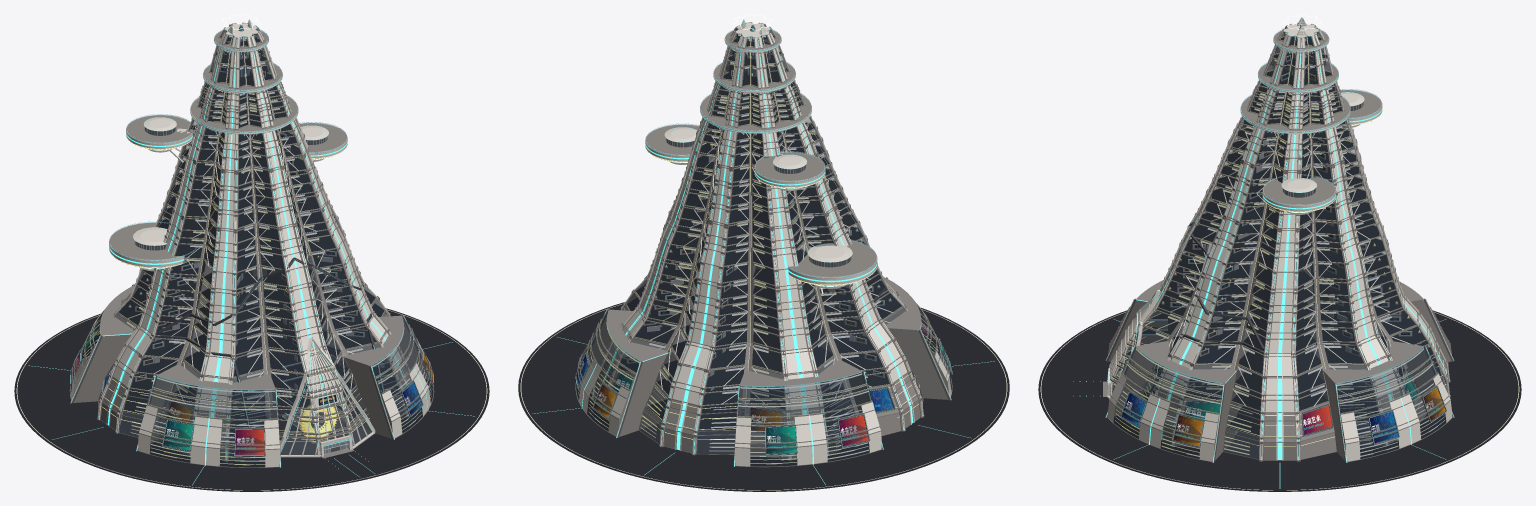
The model's file is model_web.glb.
3 views of the same model, side by side, from view 1: azimuth 30°, elevation 25°; view 2: azimuth 150°, elevation 25°; view 3: azimuth 270°, elevation 25° (orthographic). The views are drawn at different scales.
Visible parts, largest first — view 1: Shell_Glass, Shell_Frame, Slabs, Ground, Fans, Lights_Amber, Hood, Pods, Lights_Cyan, Podium, Screens, Obs_Decks (+5 smaller); view 2: Shell_Glass, Shell_Frame, Ground, Slabs, Fans, Lights_Amber, Podium, Pods, Lights_Cyan, Screens, Obs_Decks, Exhibits (+3 smaller); view 3: Shell_Glass, Shell_Frame, Ground, Slabs, Fans, Lights_Amber, Podium, Lights_Cyan, Screens, Pods, Obs_Decks, Exhibits (+5 smaller).
Boxes of the visible parts, bbox=[...] form: Shell_Glass: bbox=[113, 28, 401, 412]; Shell_Frame: bbox=[69, 22, 434, 467]; Slabs: bbox=[119, 34, 405, 459]; Ground: bbox=[14, 308, 489, 491]; Fans: bbox=[70, 285, 433, 467]; Lights_Amber: bbox=[82, 14, 432, 465]; Hood: bbox=[280, 337, 375, 457]; Pods: bbox=[109, 115, 347, 271]; Lights_Cyan: bbox=[70, 19, 433, 467]; Podium: bbox=[98, 361, 411, 459]; Screens: bbox=[71, 325, 432, 454]; Obs_Decks: bbox=[190, 30, 298, 136]; Shell_Glass: bbox=[608, 27, 907, 409]; Shell_Frame: bbox=[575, 22, 952, 467]; Ground: bbox=[518, 302, 1009, 491]; Slabs: bbox=[619, 34, 922, 454]; Fans: bbox=[576, 278, 951, 466]; Lights_Amber: bbox=[578, 14, 948, 464]; Podium: bbox=[594, 357, 922, 458]; Pods: bbox=[645, 124, 877, 294]; Lights_Cyan: bbox=[575, 19, 952, 466]; Screens: bbox=[576, 320, 948, 453]; Obs_Decks: bbox=[700, 29, 811, 135]; Exhibits: bbox=[623, 53, 891, 394]; Shell_Glass: bbox=[1126, 26, 1434, 412]; Shell_Frame: bbox=[1105, 22, 1454, 462]; Ground: bbox=[1038, 310, 1521, 491]; Slabs: bbox=[1113, 36, 1446, 459]; Fans: bbox=[1107, 280, 1452, 461]; Lights_Amber: bbox=[1109, 14, 1446, 456]; Podium: bbox=[1117, 342, 1447, 459]; Lights_Cyan: bbox=[1105, 17, 1454, 462]; Screens: bbox=[1122, 347, 1445, 446]; Pods: bbox=[1262, 90, 1382, 214]; Obs_Decks: bbox=[1240, 31, 1350, 135]; Exhibits: bbox=[1161, 52, 1430, 390].
Bounding box in the file's own units: 500 × 421 × 500.
Materials: 48 (12 with a texture image).
